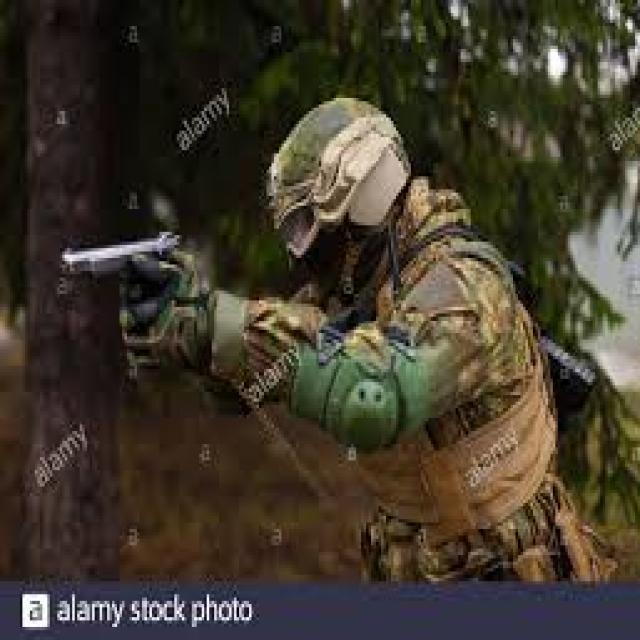soldier: (58, 93, 615, 554)
